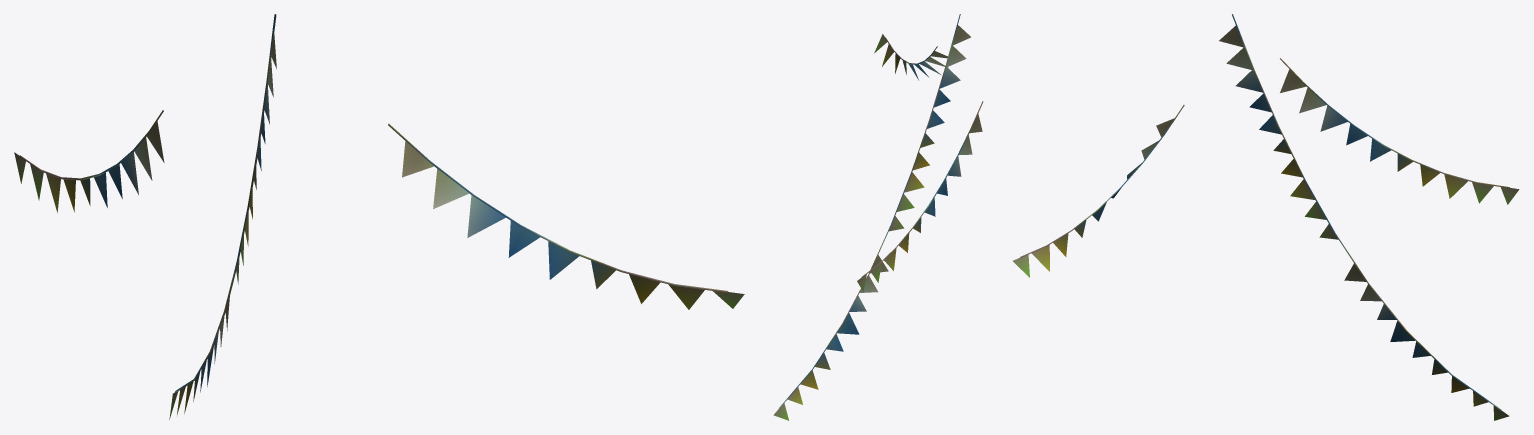
The model's file is MSH_Vimplar_003.fbx.
The picture shows the model from 3 angles, left to right: view 1: azimuth 30°, elevation 25°; view 2: azimuth 150°, elevation 25°; view 3: azimuth 270°, elevation 25°; orthographic projection. The views are drawn at different scales.
Visible parts, largest first — view 1: MSH_Vimplar.003; view 2: MSH_Vimplar.003; view 3: MSH_Vimplar.003.
Part boxes in pixels (x1=…): MSH_Vimplar.003: x1=14, y1=14, x2=744, y2=419; MSH_Vimplar.003: x1=773, y1=14, x2=983, y2=420; MSH_Vimplar.003: x1=1013, y1=14, x2=1519, y2=420.
Bounding box in the file's own units: 1227 × 1778 × 2169.
